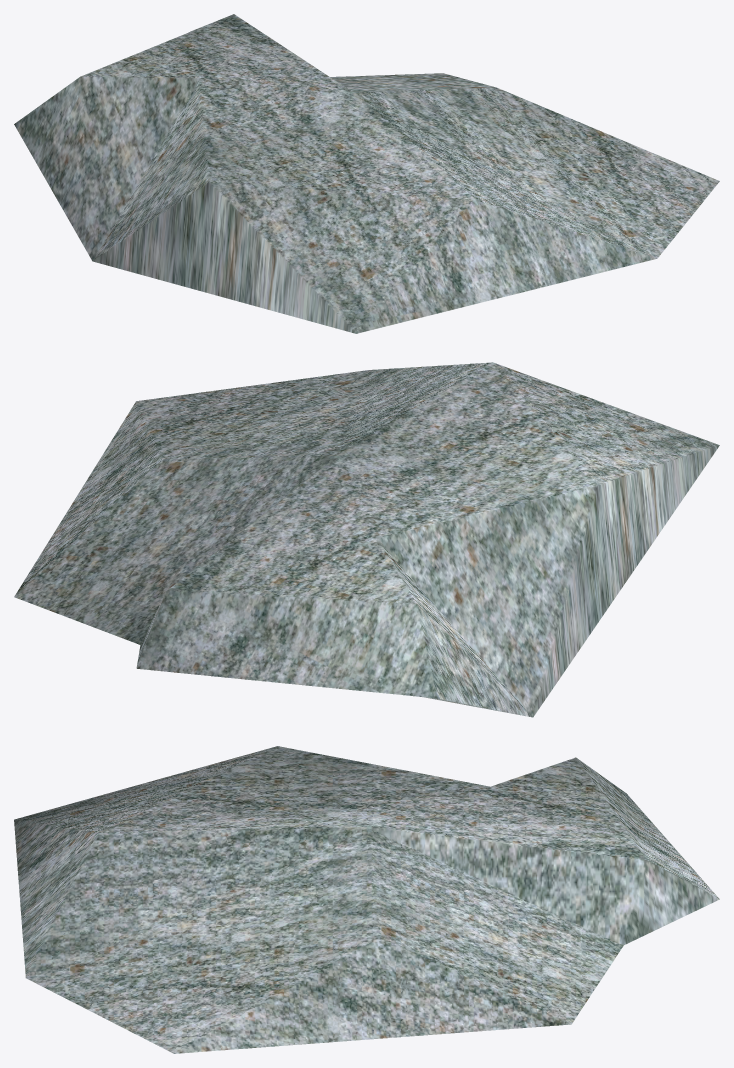
The model's file is rock_graniteslab_medium_l2.fbx.
3 views of the same model, one above another, from view 1: azimuth 30°, elevation 25°; view 2: azimuth 150°, elevation 25°; view 3: azimuth 270°, elevation 25° (orthographic). The views are drawn at different scales.
Parts seen in each view (by area): view 1: mesh_node; view 2: mesh_node; view 3: mesh_node.
Boxes of the visible parts, x1,y1,x2,y2 form: mesh_node: [14, 14, 719, 333]; mesh_node: [14, 362, 719, 717]; mesh_node: [14, 746, 719, 1053].
Bounding box in the file's own units: 1.73 × 0.4976 × 2.09.
